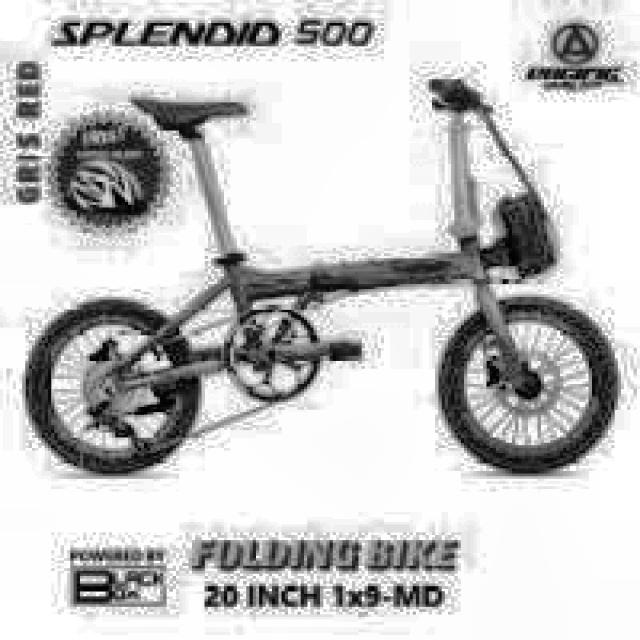motorcycle: (14, 77, 622, 478)
